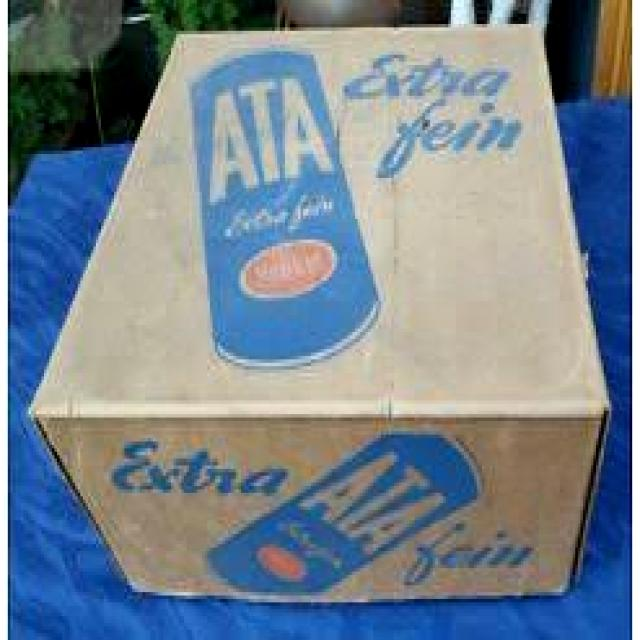Cardboard: (27, 16, 616, 602)
